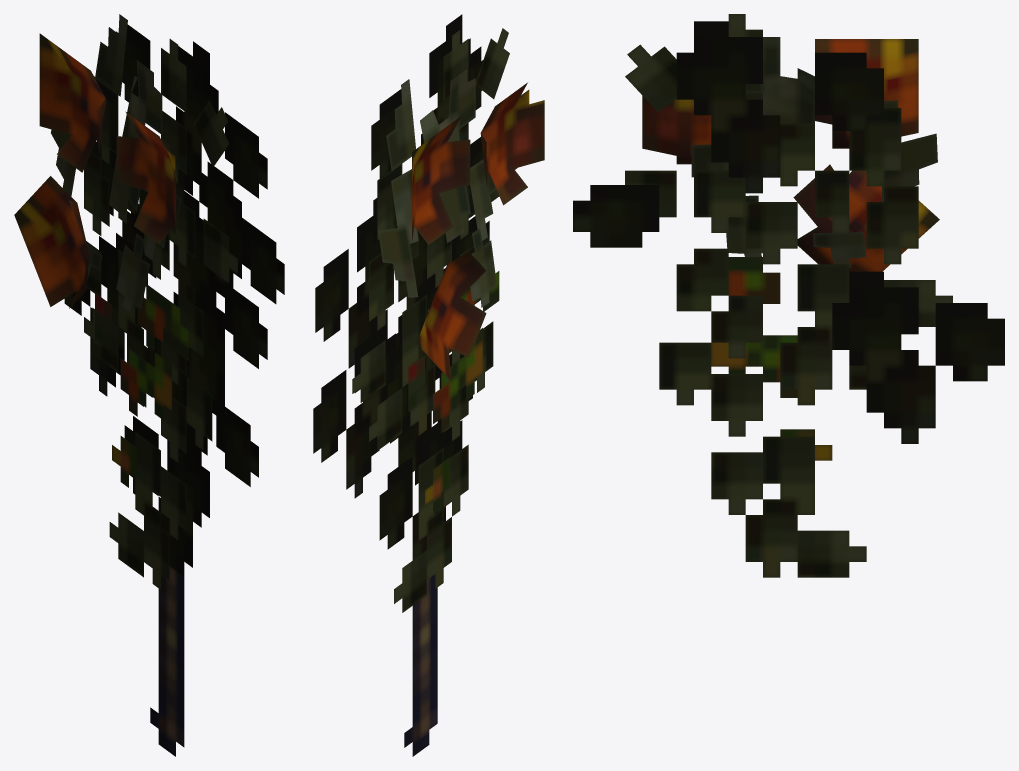
Rendered from EnvFldMD_Grass_K_M.FBX.
The picture shows the model from 3 angles, left to right: view 1: azimuth 30°, elevation 25°; view 2: azimuth 150°, elevation 25°; view 3: azimuth 270°, elevation 25°; orthographic projection. The views are drawn at different scales.
Visible parts, largest first — view 1: EnvFldMD_Grass_K_M; view 2: EnvFldMD_Grass_K_M; view 3: EnvFldMD_Grass_K_M.
Boxes of the visible parts, box(x1,y1,x2,y2) form: EnvFldMD_Grass_K_M: box(14, 14, 284, 756); EnvFldMD_Grass_K_M: box(313, 14, 544, 756); EnvFldMD_Grass_K_M: box(573, 14, 1004, 577).
Bounding box in the file's own units: 30 × 235 × 125.
1 material, 1 textured.
